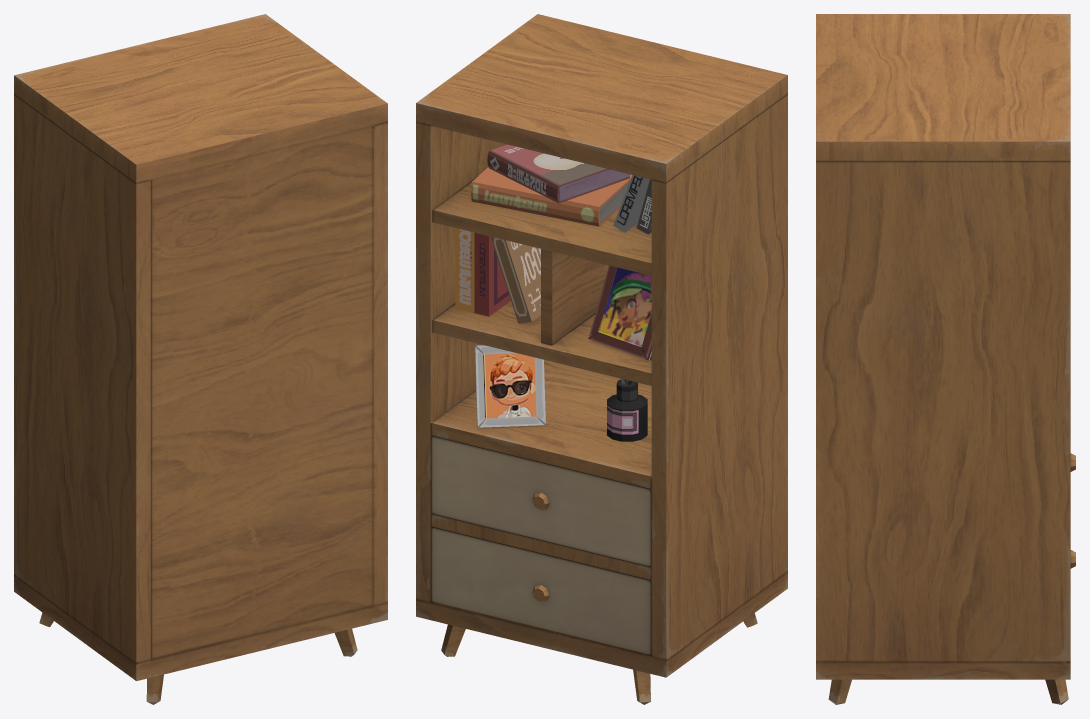
The model's file is P_Cabinet_016_S1_M02.obj.
3 renders of one model, left to right at view 1: azimuth 30°, elevation 25°; view 2: azimuth 150°, elevation 25°; view 3: azimuth 270°, elevation 25°, orthographic. The views are drawn at different scales.
Bounding box in the file's own units: 0.95 × 2 × 0.816.
Materials: 2 (2 with a texture image).
